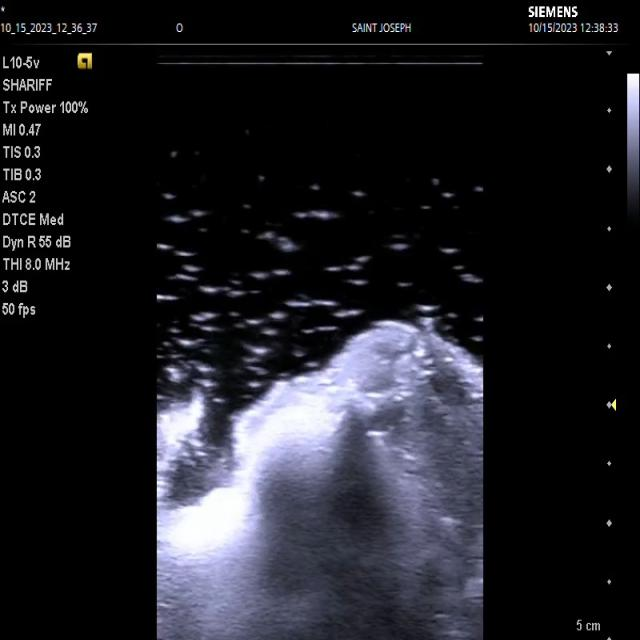tissue: (156, 321, 485, 640)
